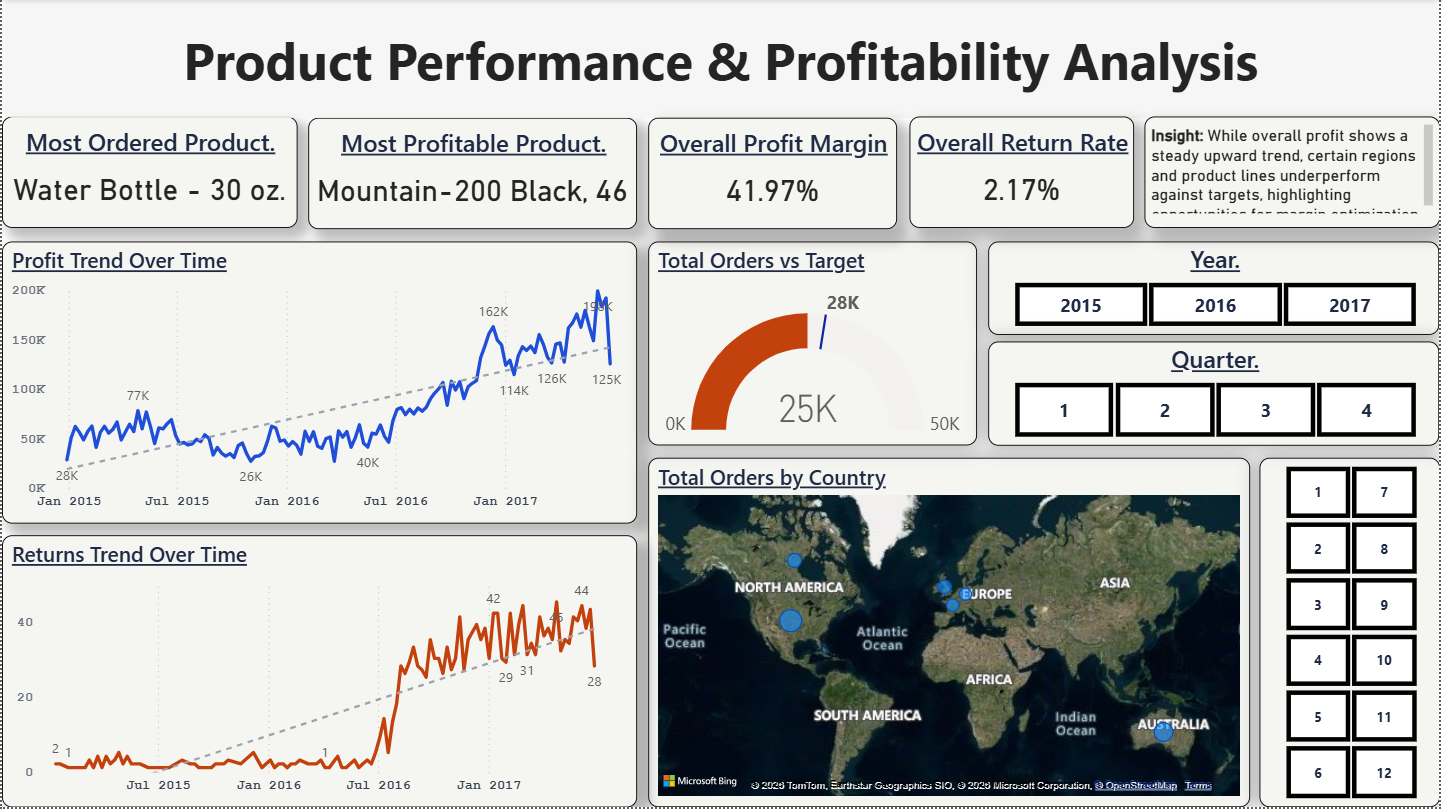

What the dashboard file says about the page in this screenshot:
{"tool":"powerbi","page":{"name":"Product","canvas":[1280,720],"ordinal":1},"visuals":[{"type":"card","title":"Most Ordered Product.","fields":{"Values":["Min(Products.ProductName)"]},"box":[0,105,263,98.9],"z":0},{"type":"card","title":"Most Profitable Product.","fields":{"Values":["Min(Products.ProductName)"]},"box":[272.7,106.2,293.2,98.9],"z":1000},{"type":"areaChart","title":"Profit Trend Over Time","fields":{"Category":["Calender_Table.Week_Start_Date.Variation.Date Hierarchy.Year","Calender_Table.Week_Start_Date.Variation.Date Hierarchy.Quarter","Calender_Table.Week_Start_Date.Variation.Date Hierarchy.Month","Calender_Table.Week_Start_Date.Variation.Date Hierarchy.Day"],"Y":["Sales.Profit"]},"box":[0,216,565.8,250.9],"z":2000},{"type":"map","fields":{"Category":["Region.Country"],"Size":["Sales.Total Orders"]},"box":[575.5,409,535.7,311.3],"z":3000},{"type":"areaChart","title":"Returns Trend Over Time","fields":{"Category":["Calender_Table.Week_Start_Date.Variation.Date Hierarchy.Year","Calender_Table.Week_Start_Date.Variation.Date Hierarchy.Quarter","Calender_Table.Week_Start_Date.Variation.Date Hierarchy.Month","Calender_Table.Week_Start_Date.Variation.Date Hierarchy.Day"],"Y":["Returns.Total Returns"]},"box":[0,477.8,565.8,242.5],"z":4000},{"type":"gauge","title":"Total Orders vs Target","fields":{"Y":["Sales.Total Orders"],"TargetValue":["Sales.Target Orders"]},"box":[575.7,216.4,292.9,181.8],"z":5000},{"type":"slicer","title":"Year.","fields":{"Values":["Calender_Table.Year"]},"box":[878.3,216,401.7,83.2],"z":6000},{"type":"slicer","fields":{"Values":["Calender_Table.month"]},"box":[1119.6,409,160.5,311.3],"z":7000},{"type":"slicer","title":"Quarter.","fields":{"Values":["Calender_Table.Quarter"]},"box":[878.3,305.2,401.7,92.9],"z":8000},{"type":"shape","box":[0,0,1280,106],"z":9000},{"type":"card","title":"Overall Profit Margin","fields":{"Values":["Sales.Profit Margin %"]},"box":[575.5,106.2,222,98.9],"z":10000},{"type":"card","title":"Overall Return Rate","fields":{"Values":["Returns.Return Rate"]},"box":[808.3,105,200.3,98.9],"z":11000},{"type":"textbox","box":[1017,105,263,98.9],"z":11001}]}

Visuals, with their boxes in screenshot pixels (x1, y1, x2, y2), scaled from the page's 1280x720 canvas onto the 1443x811 screenshot:
"Most Ordered Product." card: detection(0, 118, 296, 230)
"Most Profitable Product." card: detection(307, 120, 638, 231)
"Profit Trend Over Time" areaChart: detection(0, 243, 638, 526)
map - Region.Country x Sales.Total Orders: detection(649, 461, 1253, 810)
"Returns Trend Over Time" areaChart: detection(0, 538, 638, 810)
"Total Orders vs Target" gauge: detection(649, 244, 979, 449)
"Year." slicer: detection(990, 243, 1442, 337)
slicer - Calender_Table.month: detection(1262, 461, 1442, 810)
"Quarter." slicer: detection(990, 344, 1442, 448)
shape: detection(0, 0, 1442, 119)
"Overall Profit Margin" card: detection(649, 120, 899, 231)
"Overall Return Rate" card: detection(911, 118, 1137, 230)
textbox: detection(1147, 118, 1442, 230)
